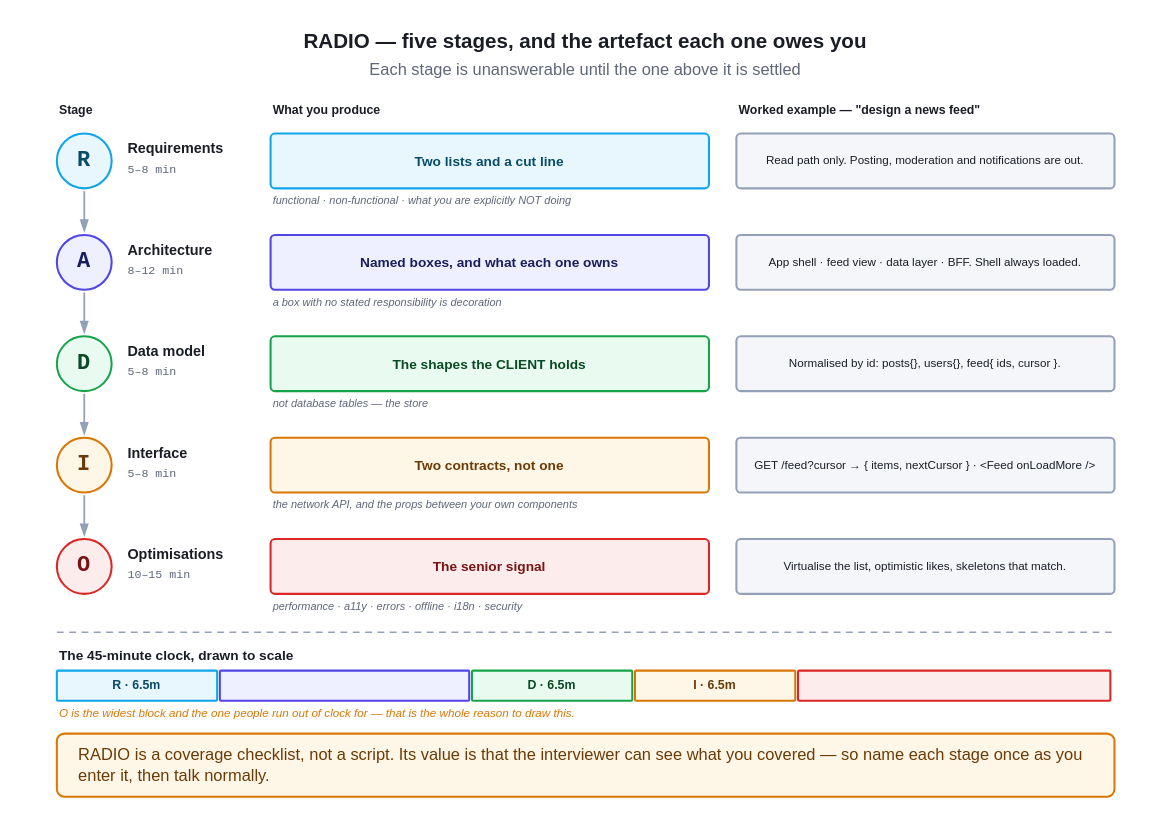
Some shapes in this 1170 by 821 pixel diagram are drawn without their labels. The shapes that lost their labels are listed below. From the top down, each one's centre as x and y in pixels, then its label:
the point at 344,685: A · 10m
the point at 953,685: O · 12.5m
